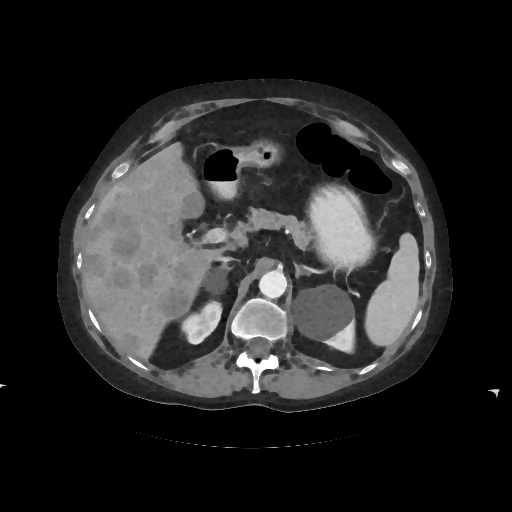Lesion: (284, 281, 360, 346)
